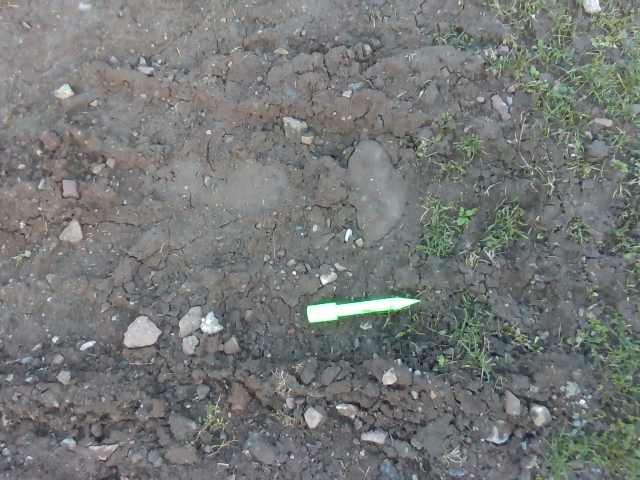Probe: (304, 290, 420, 327)
